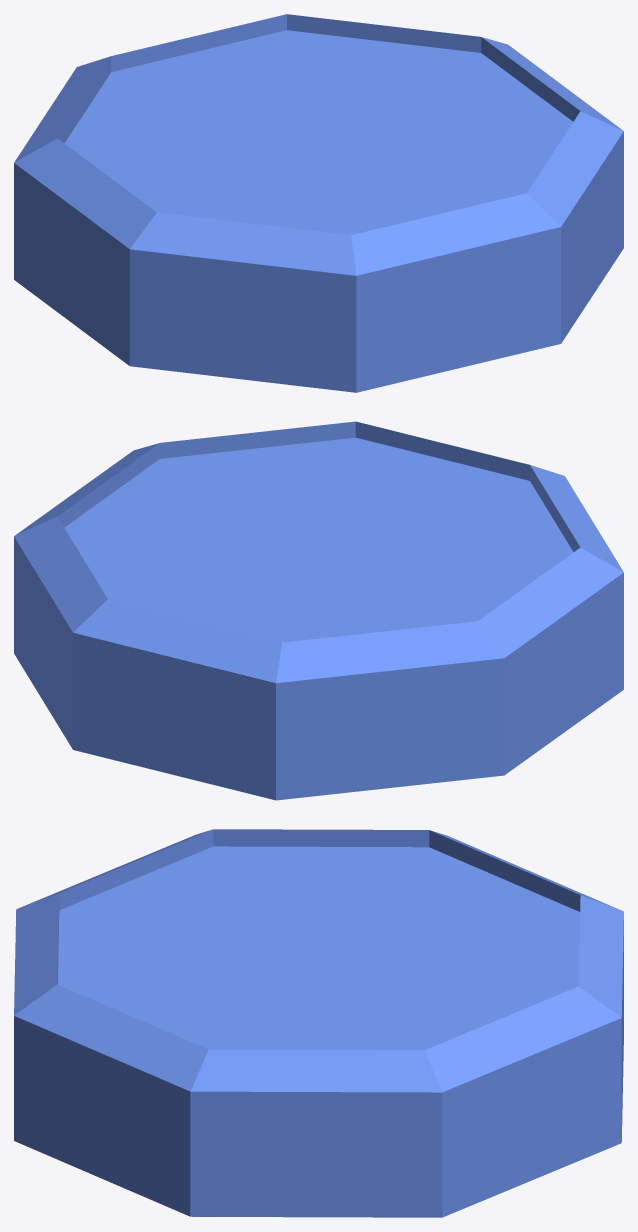
Rendered from obj_ohajiki_seiryuu_01.fbx.
The picture shows the model from 3 angles, top to bottom: view 1: azimuth 30°, elevation 25°; view 2: azimuth 150°, elevation 25°; view 3: azimuth 270°, elevation 25°; orthographic projection. The views are drawn at different scales.
Parts seen in each view (by area): view 1: pCylinder3; view 2: pCylinder3; view 3: pCylinder3.
Boxes of the visible parts, <box> form: pCylinder3: <box>14,14,623,392</box>; pCylinder3: <box>14,421,623,800</box>; pCylinder3: <box>14,829,623,1217</box>.
Size of the model in its own units: 3.71 by 1 by 3.71.
